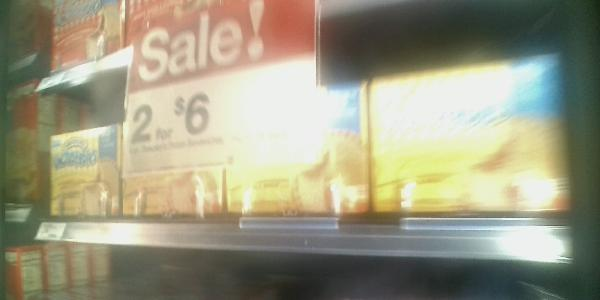icecream: (371, 53, 566, 217), (223, 83, 371, 228), (120, 116, 225, 215), (44, 126, 121, 220)
